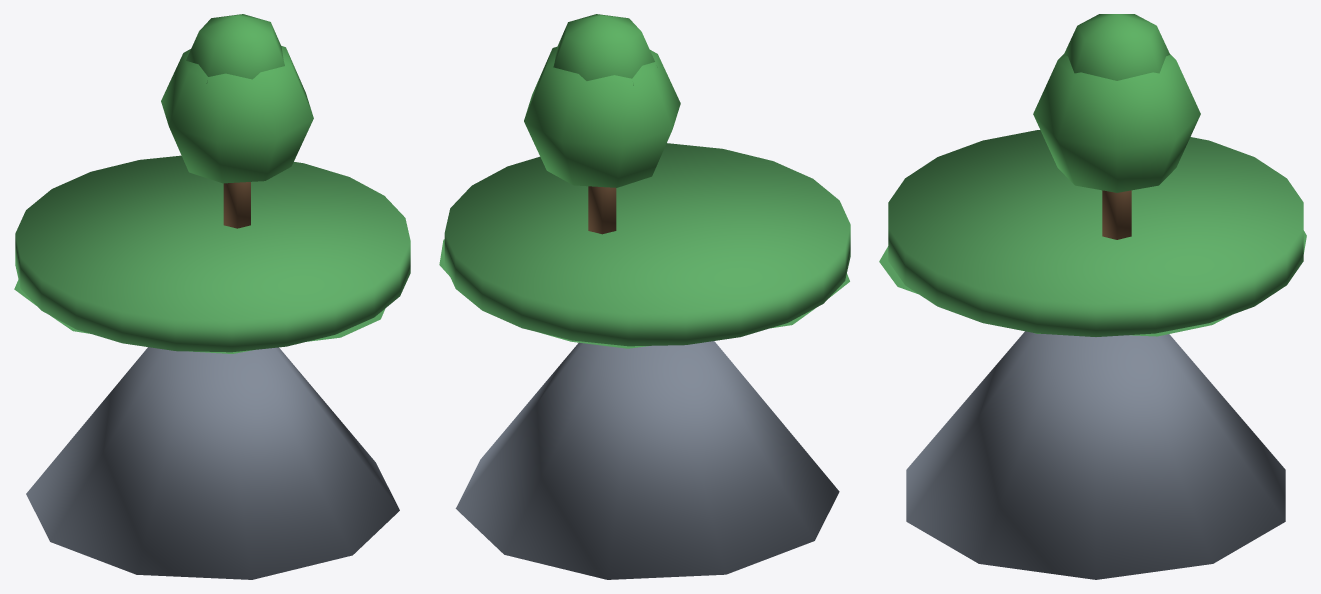
Rendered from xy_terrain_isle.glb.
3 views of the same model, side by side, from view 1: azimuth 30°, elevation 25°; view 2: azimuth 150°, elevation 25°; view 3: azimuth 270°, elevation 25° (orthographic). The views are drawn at different scales.
Parts seen in each view (by area): view 1: Isle; view 2: Isle; view 3: Isle.
Part boxes in pixels (bbox=[...]): Isle: bbox=[14, 14, 410, 579]; Isle: bbox=[439, 14, 850, 579]; Isle: bbox=[879, 14, 1306, 579].
Bounding box in the file's own units: 4 × 5.25 × 4.08.
